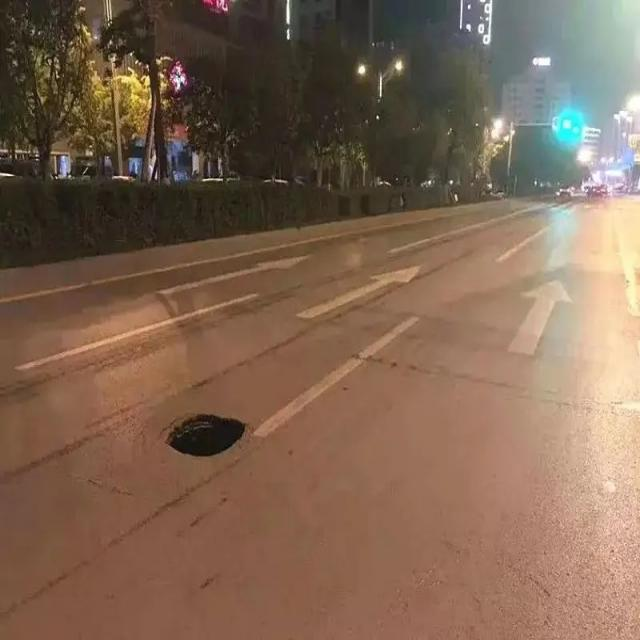Pothole: (170, 413, 243, 461)
